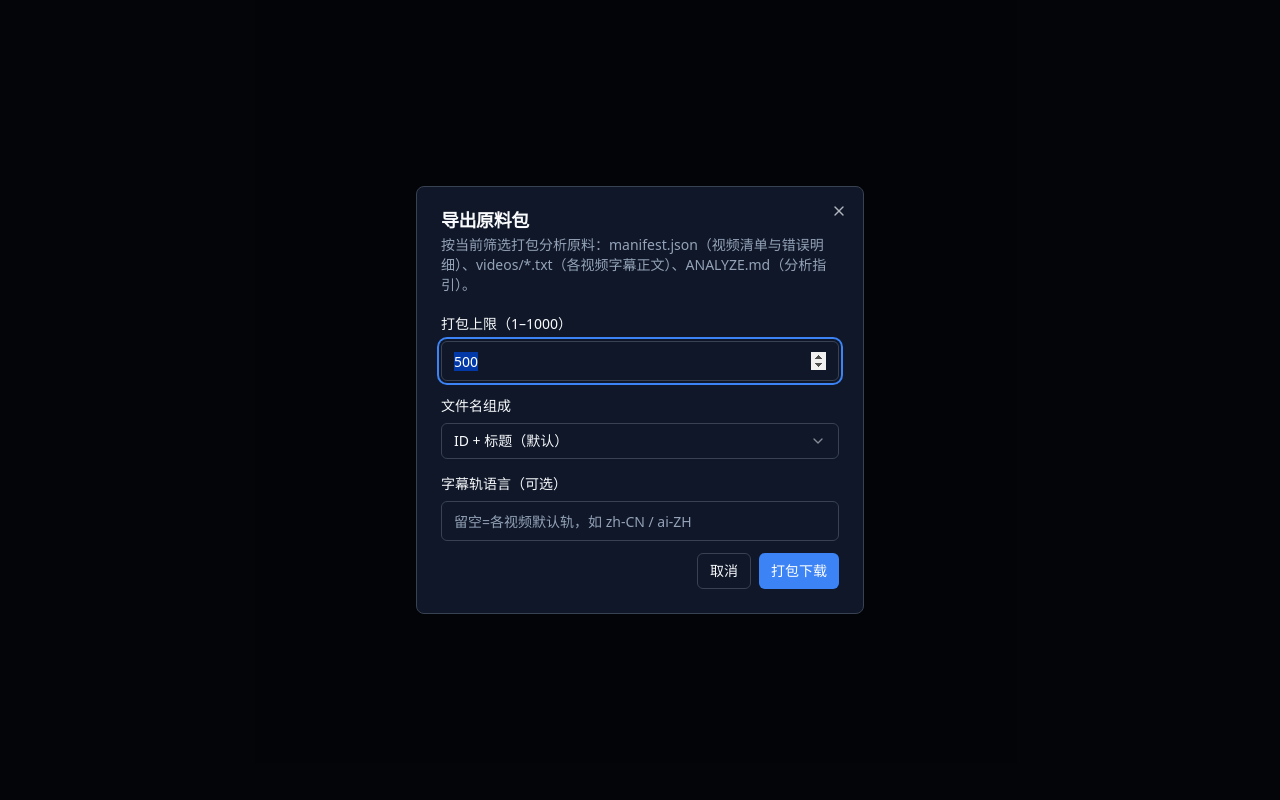
失败：400 JSON 行内错误带 server 文案；修正后重试成功且错误清除
Click the button "打包下载". click: (799, 571)
box: [759,553,839,589]
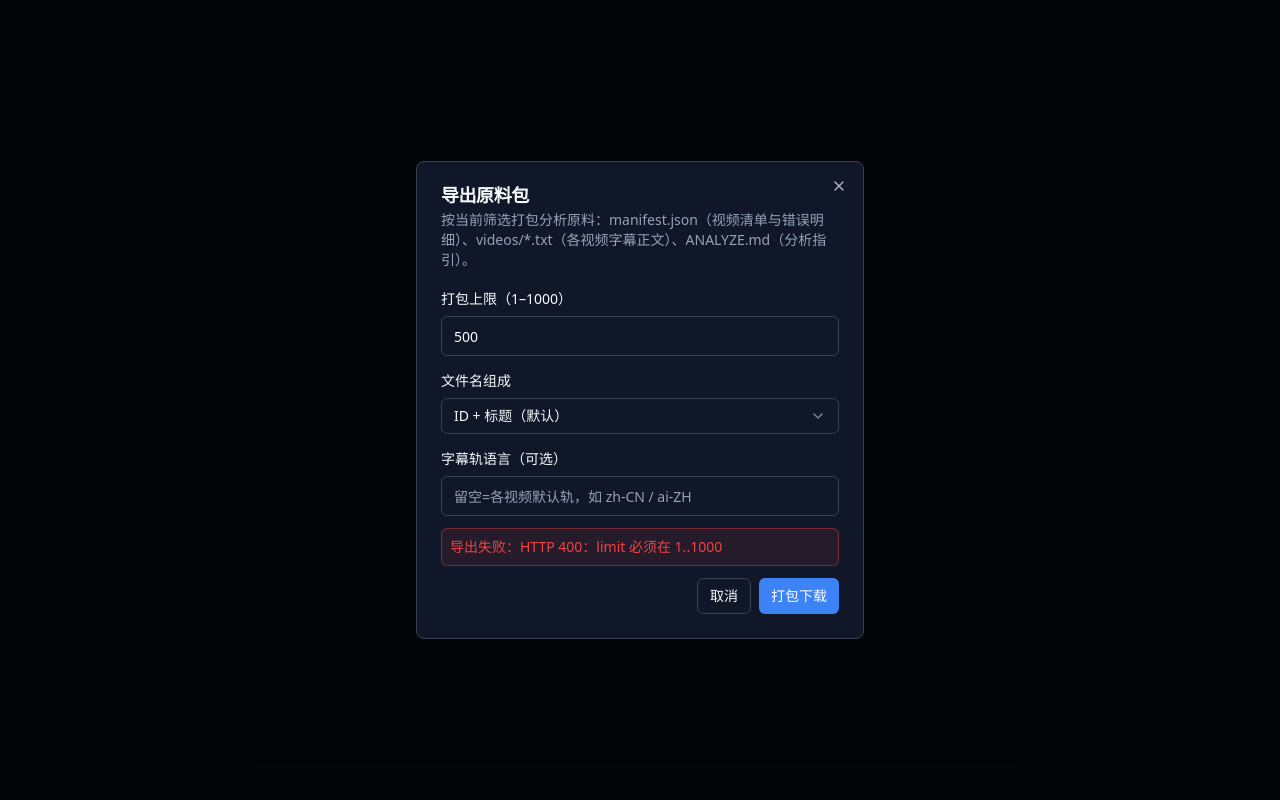
Check: the text "导出失败：HTTP 400：limit 必须在 1..1000" is shown, box [441,528,839,566]
Click the button "打包下载". click: (799, 596)
box: [759,578,839,614]
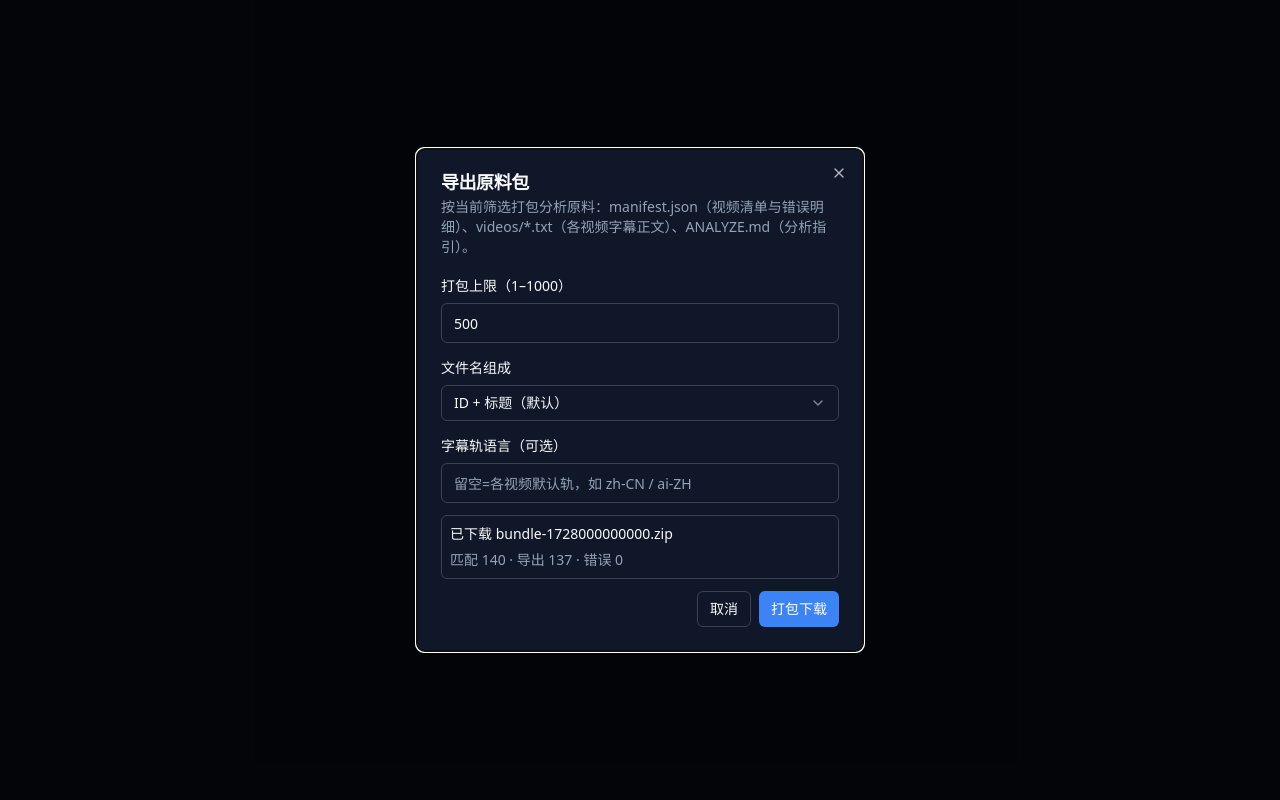
Check: the text "匹配 140 · 导出 137 · 错误 0" is shown, box [450,550,623,569]
Check: the text "导出失败" is gone
